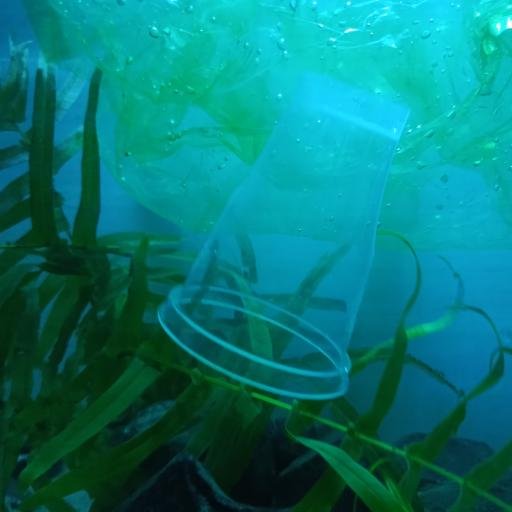plastic_bag: (28, 0, 512, 253)
plastic_cup: (156, 68, 413, 401)
